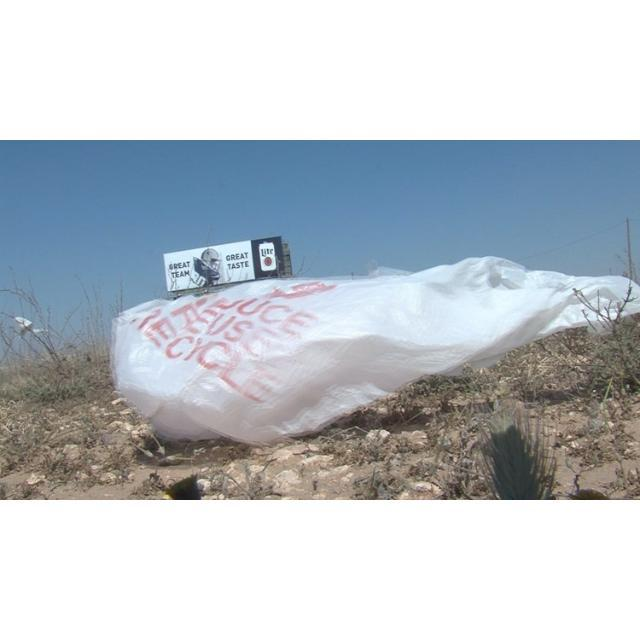plastic: (112, 257, 640, 444)
